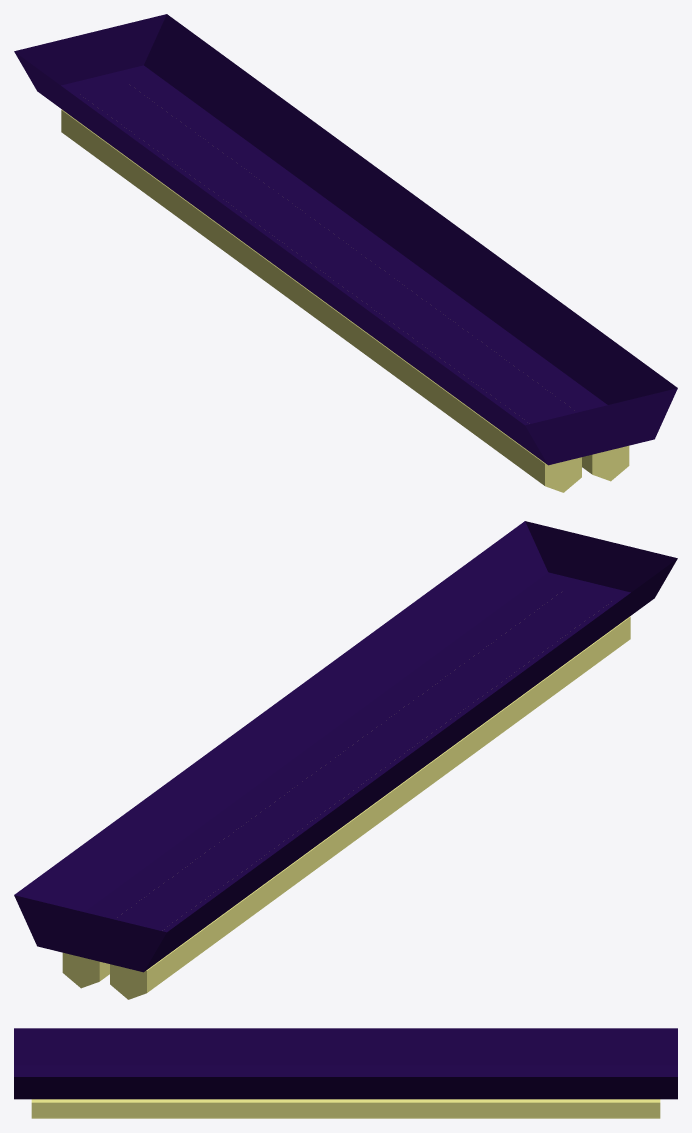
File: LampadaDeTeto.fbx
3 views of the same model, one above another, from view 1: azimuth 30°, elevation 25°; view 2: azimuth 150°, elevation 25°; view 3: azimuth 270°, elevation 25° (orthographic). The views are drawn at different scales.
Visible parts, largest first — view 1: Cubo.002; view 2: Cubo.002; view 3: Cubo.002.
Part boxes in pixels (box(x1,y1,x2,y2)): Cubo.002: box(14, 14, 677, 492); Cubo.002: box(14, 521, 677, 999); Cubo.002: box(14, 1028, 677, 1118).
Size of the model in its own units: 20.72 by 11.69 by 120.
